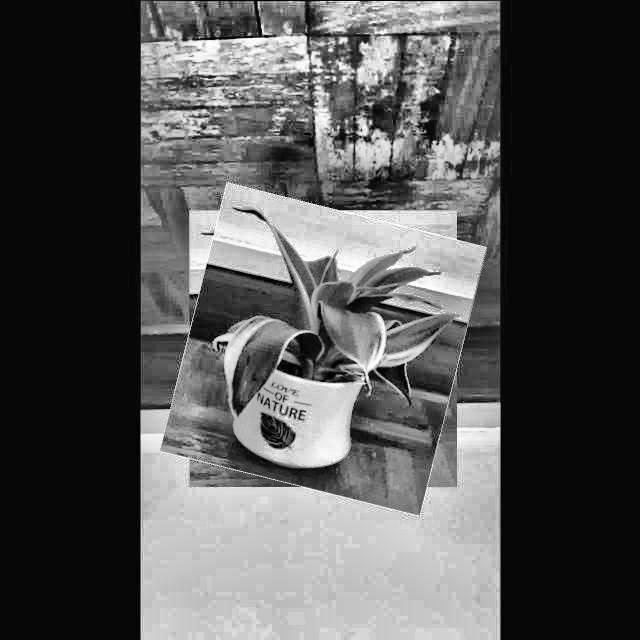plants: (174, 196, 472, 501)
